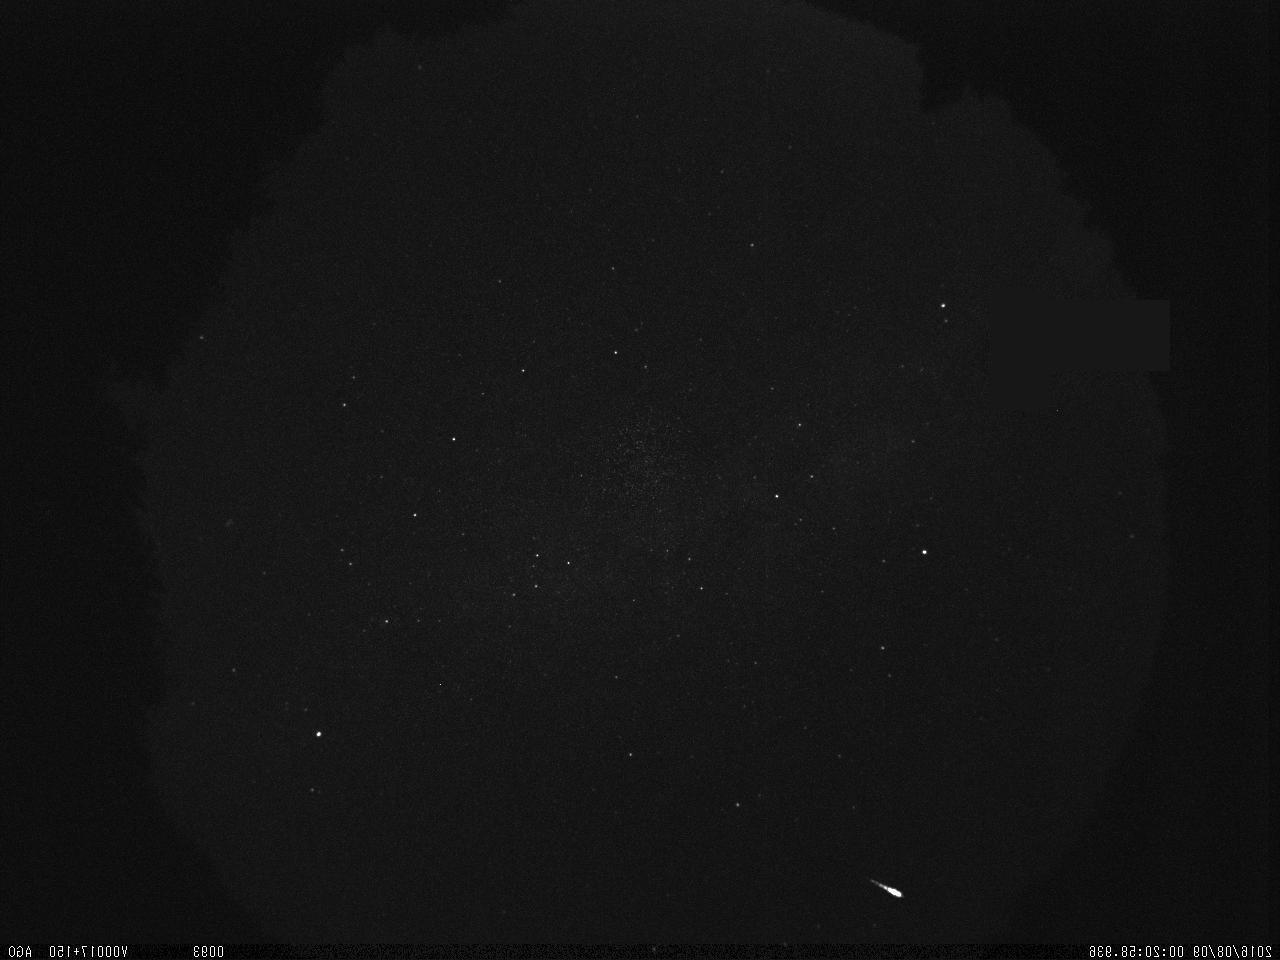meteor: (860, 873, 917, 909)
